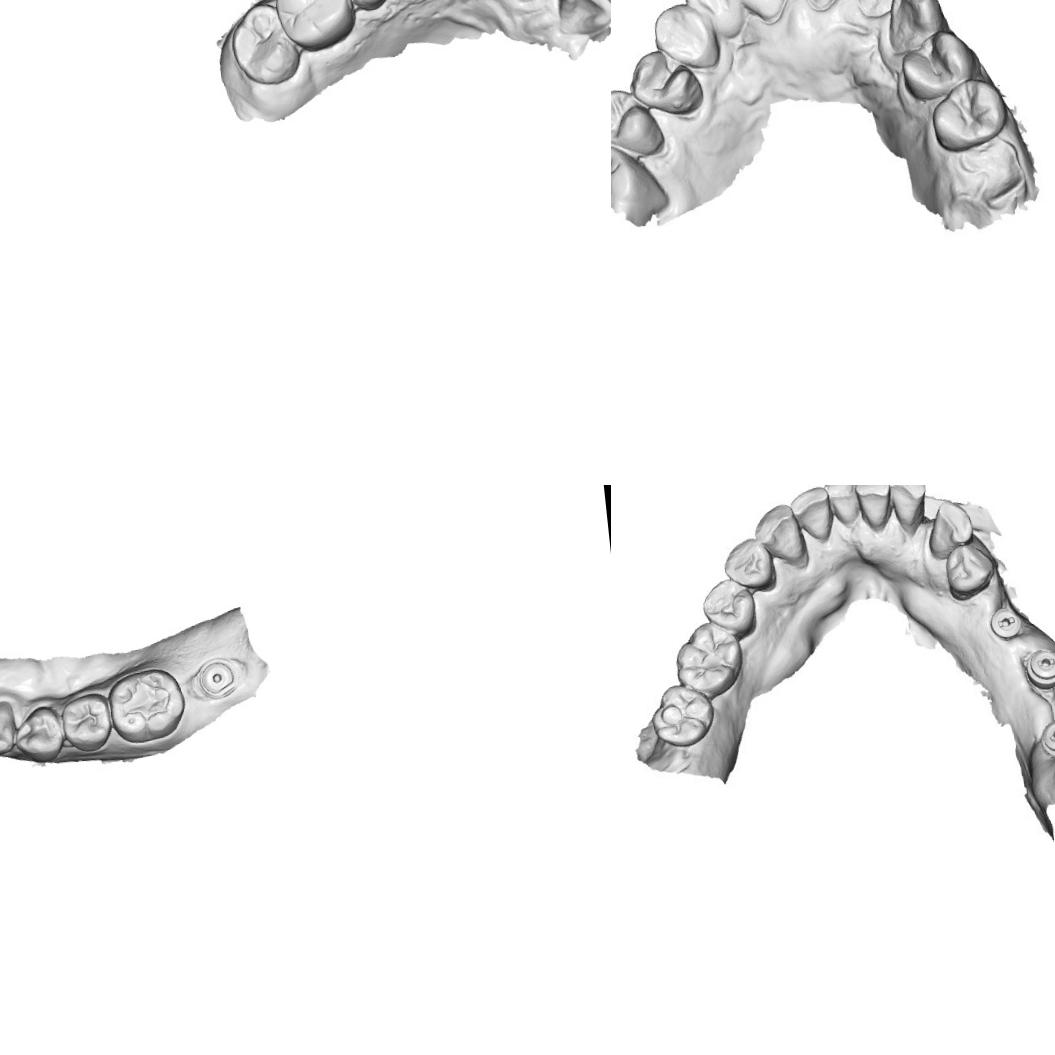canine: (649, 0, 723, 77), (878, 0, 951, 59), (753, 500, 810, 570), (920, 496, 975, 562), (0, 697, 18, 761)
implant: (194, 657, 241, 701)
implant_minus: (982, 600, 1028, 646), (1021, 643, 1055, 691), (1037, 715, 1055, 765)
incisor: (793, 485, 837, 544), (680, 0, 741, 37), (723, 0, 803, 28), (553, 0, 611, 37), (883, 485, 929, 529), (855, 485, 892, 529), (826, 485, 862, 528), (849, 0, 915, 21)
molar: (103, 664, 190, 747), (228, 0, 303, 90), (270, 0, 360, 55), (673, 628, 742, 694), (650, 681, 717, 747)
premolar: (926, 75, 1013, 156), (625, 46, 704, 127), (896, 26, 975, 104), (698, 574, 759, 642), (56, 690, 116, 758), (611, 82, 663, 159), (8, 701, 66, 766), (722, 535, 778, 596), (940, 545, 1000, 601), (333, 0, 392, 15)
